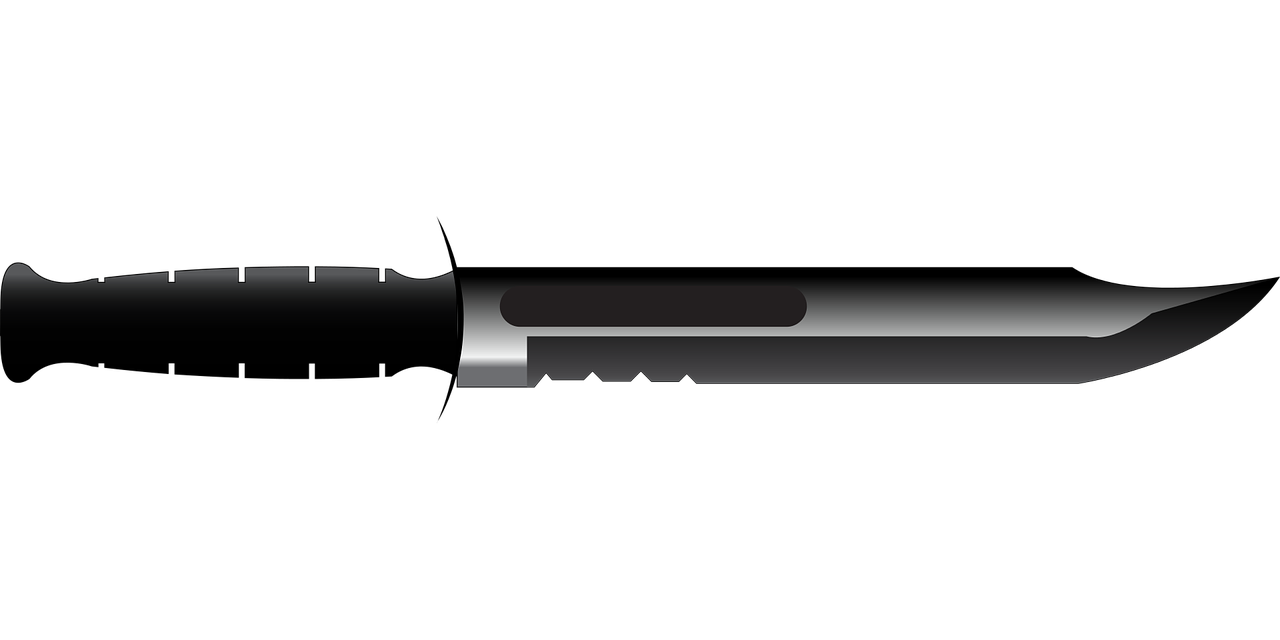knife: (0, 218, 1280, 406)
